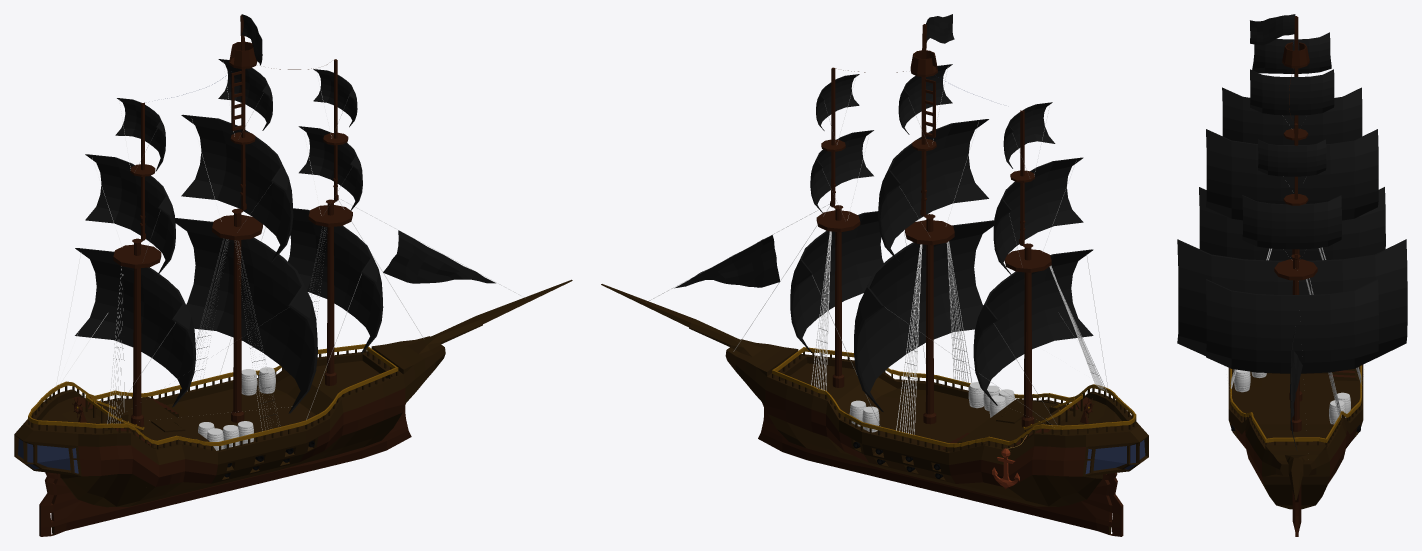
File: GV ship 1.fbx
The picture shows the model from 3 angles, left to right: view 1: azimuth 30°, elevation 25°; view 2: azimuth 150°, elevation 25°; view 3: azimuth 270°, elevation 25°; orthographic projection. The views are drawn at different scales.
Visible parts, largest first — view 1: Cube; view 2: Cube; view 3: Cube, Mesh.004.
Boxes of the visible parts, box(x1,y1,x2,y2) form: Cube: box(14, 14, 572, 536); Cube: box(601, 14, 1148, 536); Cube: box(1177, 14, 1407, 536); Mesh.004: box(1234, 369, 1250, 392).
Bounding box in the file's own units: 5923 × 4864 × 2235.
